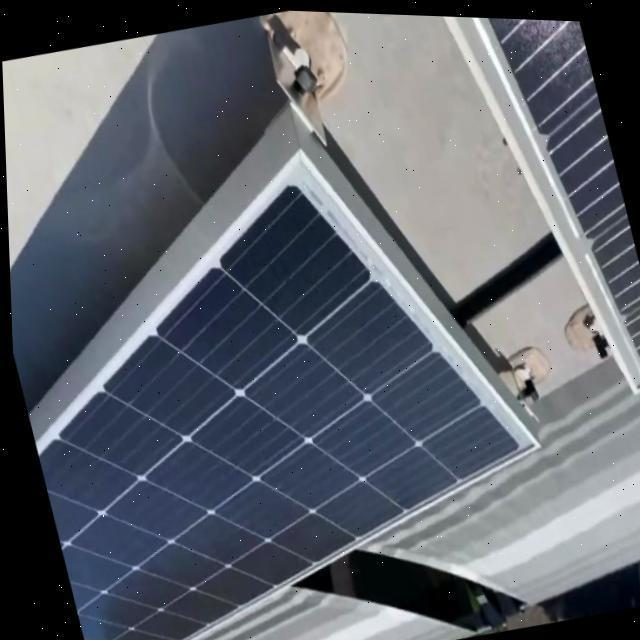Normal Solar Panel: (3, 104, 570, 640)
